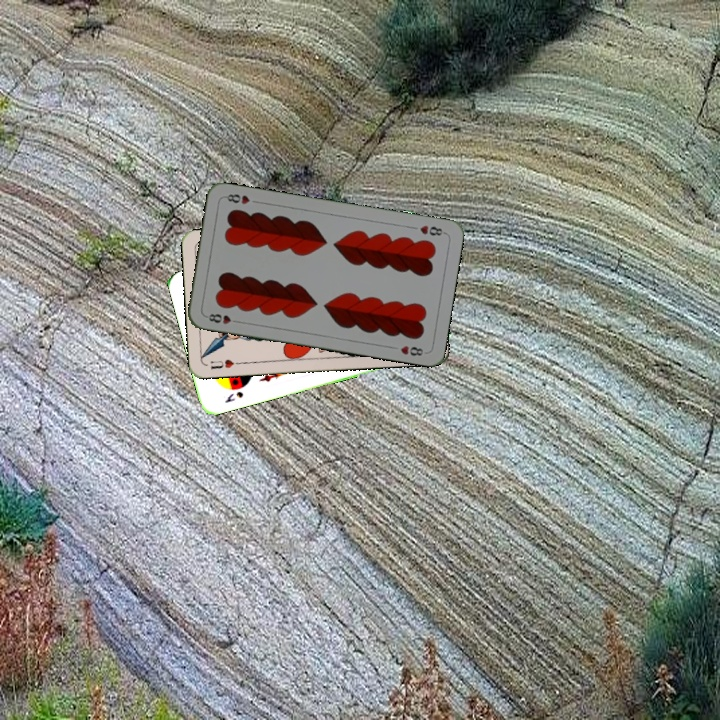H8: (202, 310, 242, 327), (416, 221, 448, 238)
HU: (207, 355, 244, 372)
SK: (221, 387, 246, 405)
